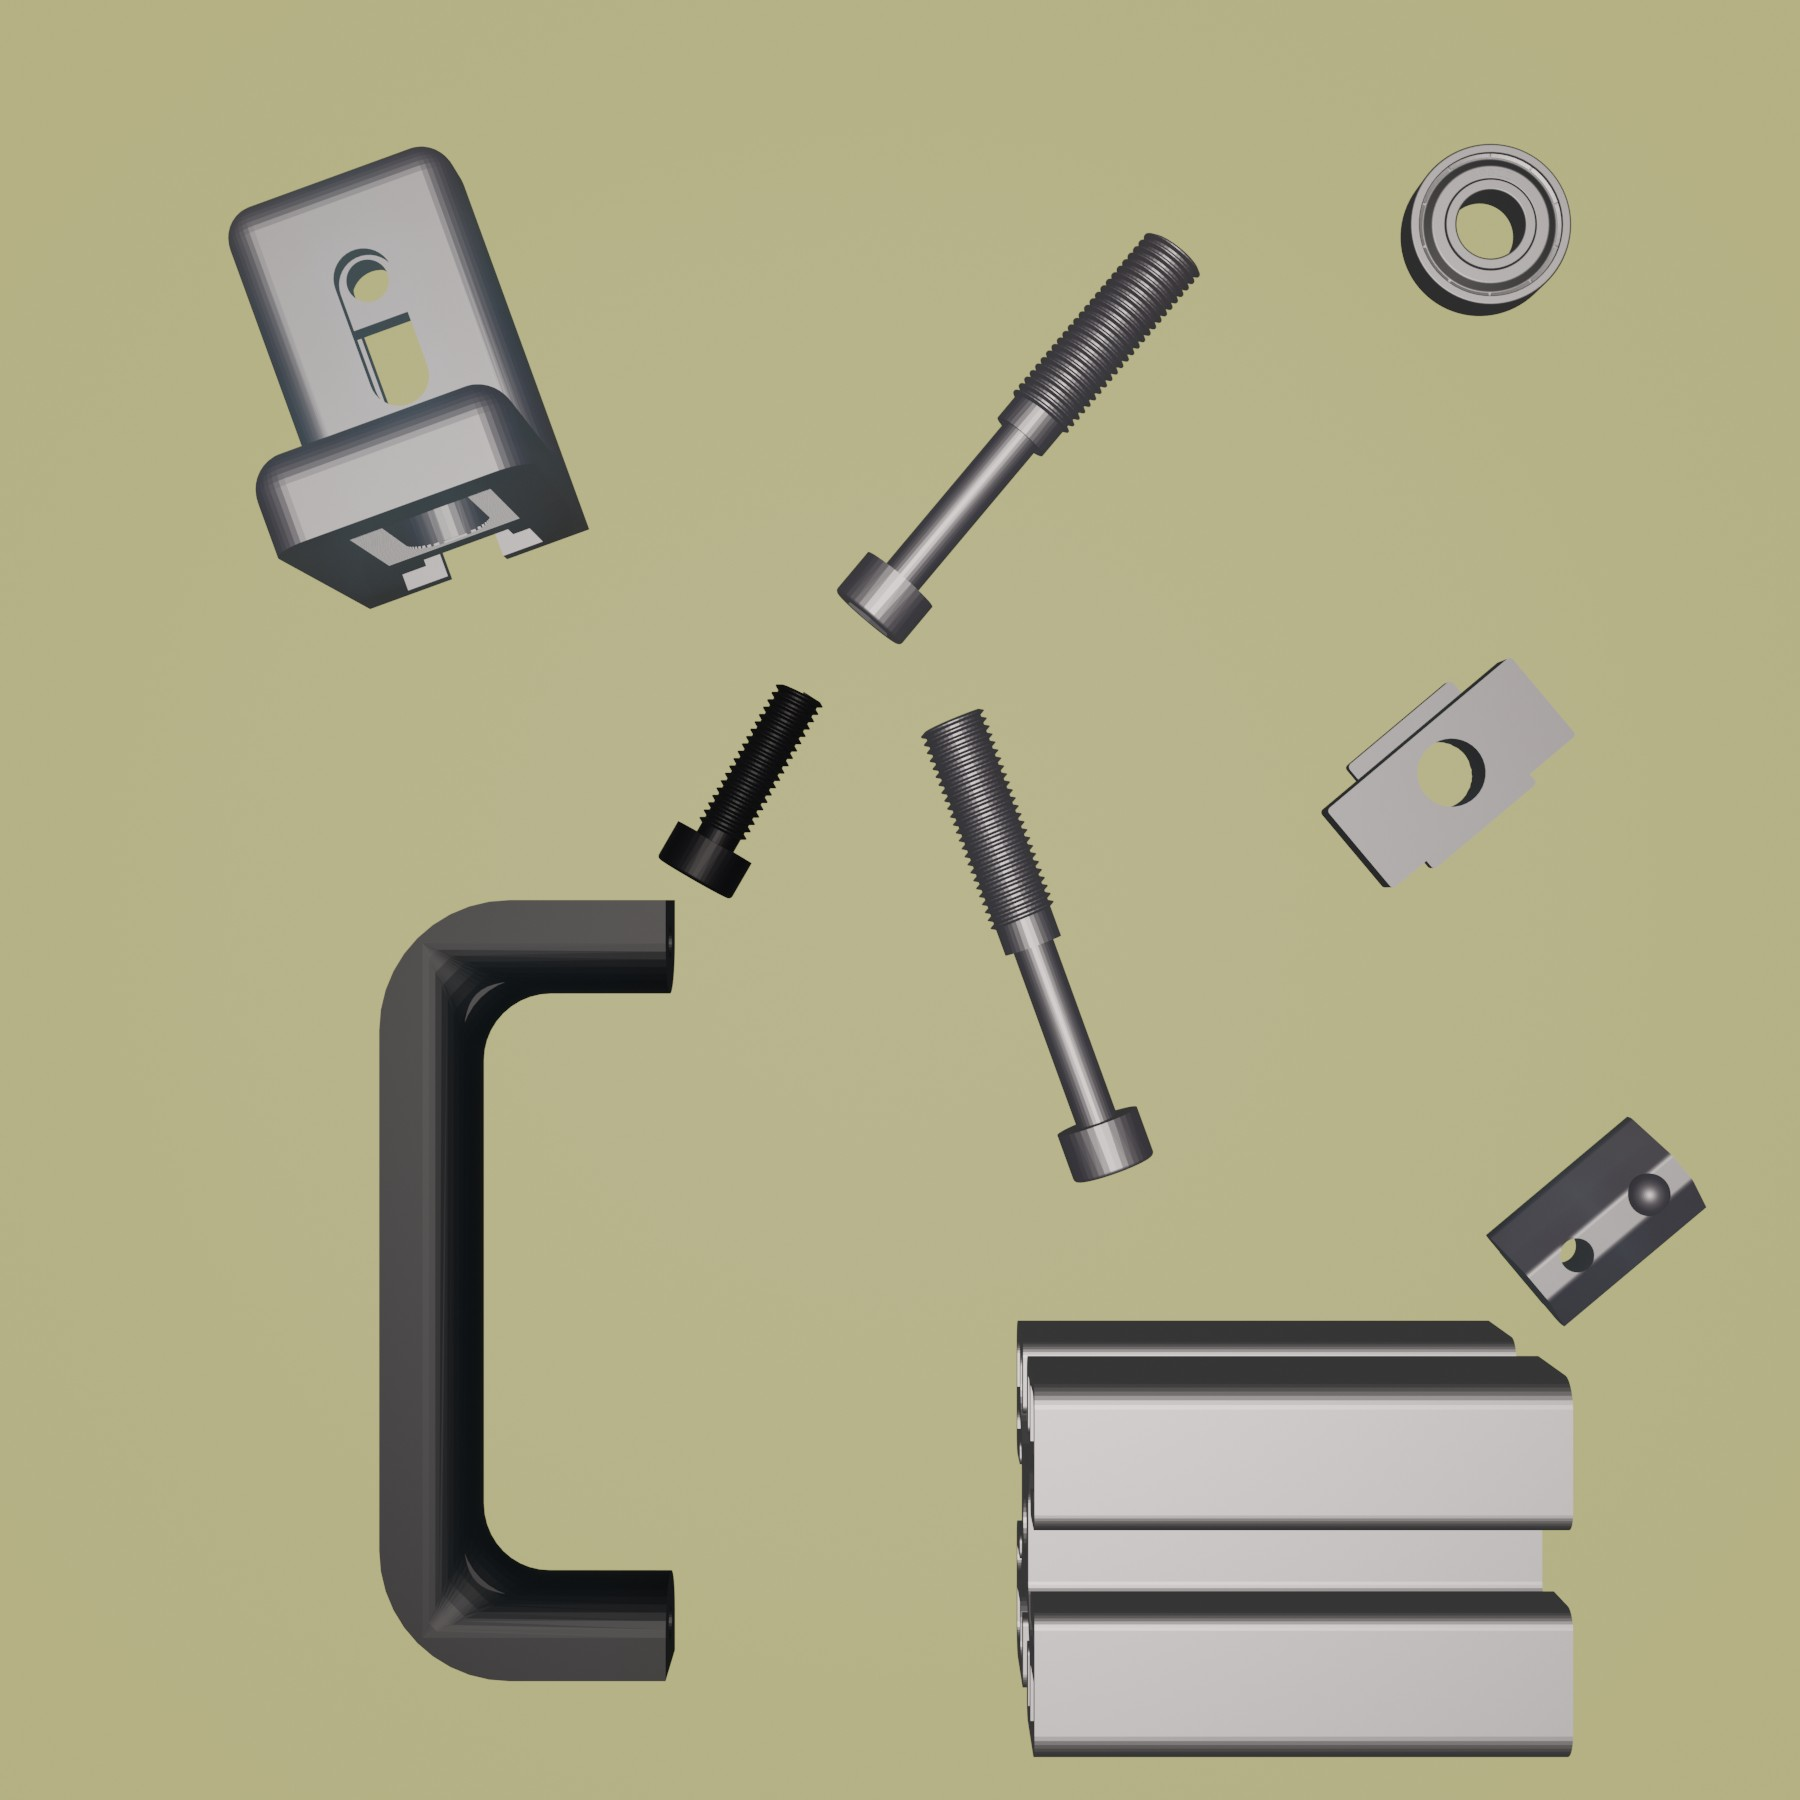Aluminium Extension: (1010, 1314, 1577, 1762)
Ball Bearing: (1398, 138, 1574, 320)
Multiwinkel: (227, 143, 590, 613)
Pull Handle: (371, 892, 677, 1685)
Shoulder Socket Head Cap Screw: (836, 227, 1200, 648), (916, 705, 1155, 1185)
Socket Head Cap Screw: (656, 677, 824, 903)
T Nut Square: (1320, 654, 1577, 888)
T Spring Nut: (1485, 1114, 1713, 1327)
